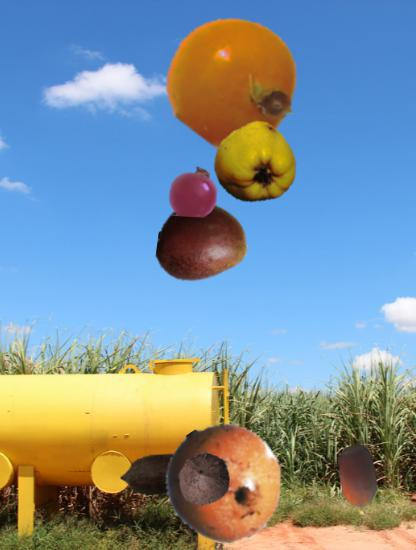Cocos: (175, 451, 234, 510)
Granadilla: (163, 423, 284, 544)
Hazelnut: (326, 446, 388, 508)
Mango: (158, 198, 248, 288)
Nut: (120, 434, 201, 515)
Physalis: (166, 14, 303, 151)
Quince: (213, 122, 297, 206)
Redcurrant: (168, 166, 220, 218)
